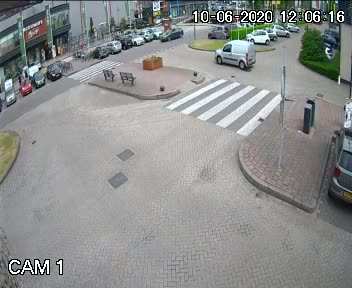car: (210, 34, 255, 70), (157, 23, 186, 44)
